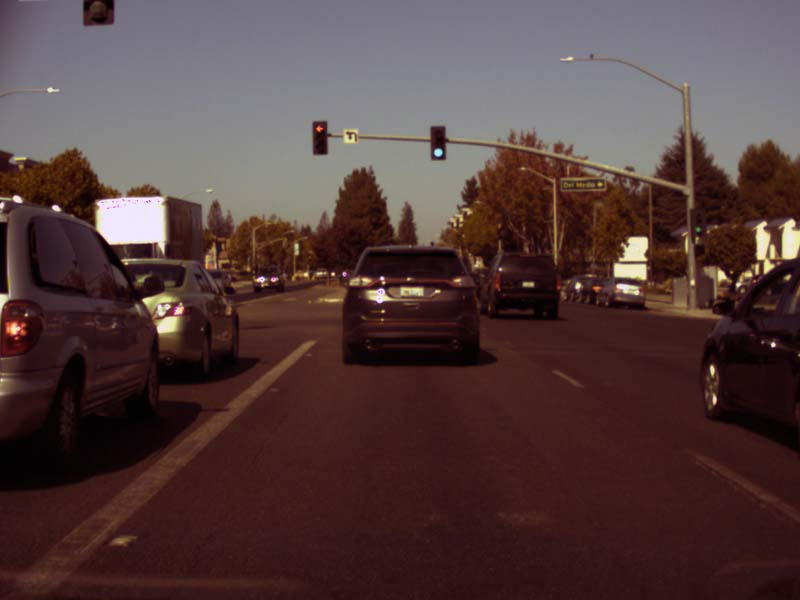Green: (430, 126, 443, 158), (692, 210, 704, 235)
Red: (313, 121, 327, 153)
